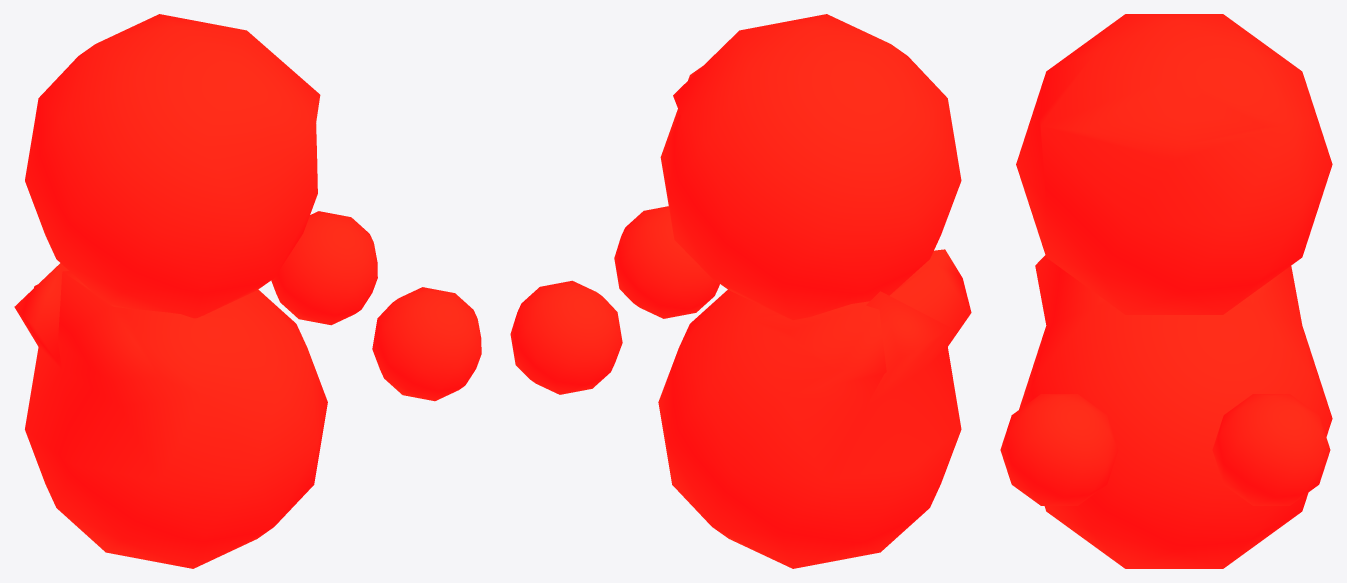
Rendered from red_soul.gltf.
3 renders of one model, left to right at view 1: azimuth 30°, elevation 25°; view 2: azimuth 150°, elevation 25°; view 3: azimuth 270°, elevation 25°, orthographic. The views are drawn at different scales.
Visible parts, largest first — view 1: Head, Body, Right Hand, Left Hand; view 2: Head, Body, Left Hand, Right Hand; view 3: Head, Body, Left Hand, Right Hand.
Part boxes in pixels (box(x1,y1,x2,y2)): Head: box(25, 14, 320, 318); Body: box(14, 263, 327, 568); Right Hand: box(372, 287, 481, 401); Left Hand: box(271, 211, 377, 325); Head: box(660, 14, 961, 320); Body: box(658, 249, 971, 568); Left Hand: box(510, 280, 622, 394); Right Hand: box(614, 206, 719, 318); Head: box(1016, 14, 1332, 314); Body: box(1019, 255, 1332, 568); Left Hand: box(1212, 394, 1330, 505); Right Hand: box(1000, 394, 1118, 505).
Bounding box in the file's own units: 2.85 × 3.77 × 2.1.
